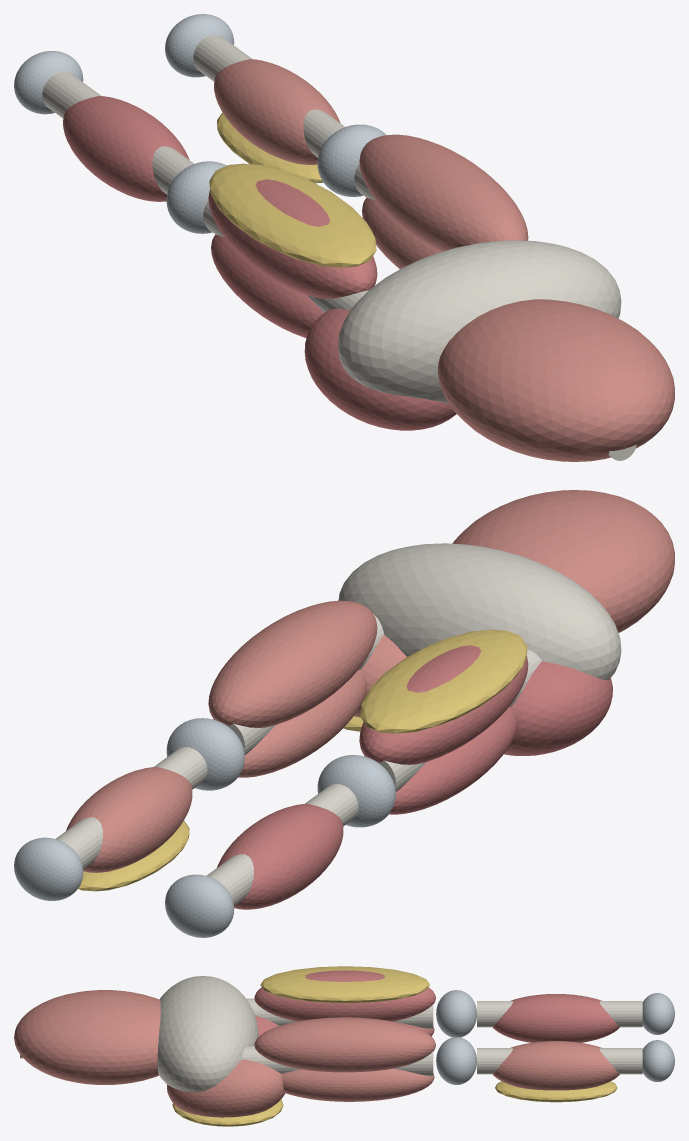
Rendered from muscle_mobility_educational.glb.
3 views of the same model, one above another, from view 1: azimuth 30°, elevation 25°; view 2: azimuth 150°, elevation 25°; view 3: azimuth 270°, elevation 25° (orthographic). The views are drawn at different scales.
Visible parts, largest first — view 1: Otot Inti, Panggul, Quadriceps Kiri, Area Sarkopenia Quadriceps, Otot Betis Kanan, Otot Betis Kiri, Quadriceps Kanan, Gluteus Kanan, Hamstring Kanan, Sendi Lutut Kiri, Tibia Kiri, Tibia Kanan (+6 smaller); view 2: Panggul, Otot Inti, Quadriceps Kiri, Area Sarkopenia Quadriceps, Otot Betis Kanan, Otot Betis Kiri, Gluteus Kanan, Quadriceps Kanan, Hamstring Kanan, Hamstring Kiri, Pergelangan Kaki Kanan, Pergelangan Kaki Kiri (+8 smaller); view 3: Otot Inti, Panggul, Quadriceps Kiri, Otot Betis Kiri, Otot Betis Kanan, Area Sarkopenia Quadriceps, Quadriceps Kanan, Gluteus Kiri, Hamstring Kiri, Tibia Kiri, Tibia Kanan, Sendi Lutut Kanan (+7 smaller).
Part boxes in pixels (x1,y1,x2,y2): Otot Inti: [438, 299, 674, 461]; Panggul: [337, 240, 621, 403]; Quadriceps Kiri: [359, 134, 528, 251]; Area Sarkopenia Quadriceps: [209, 163, 376, 267]; Otot Betis Kanan: [63, 96, 189, 201]; Otot Betis Kiri: [214, 59, 340, 164]; Quadriceps Kanan: [208, 179, 377, 298]; Gluteus Kanan: [304, 308, 456, 430]; Hamstring Kanan: [211, 234, 323, 338]; Sendi Lutut Kiri: [317, 124, 386, 196]; Tibia Kiri: [193, 35, 344, 157]; Tibia Kanan: [42, 71, 193, 194]; Panggul: [338, 543, 621, 679]; Otot Inti: [452, 490, 674, 632]; Quadriceps Kiri: [208, 600, 377, 727]; Area Sarkopenia Quadriceps: [360, 629, 527, 733]; Otot Betis Kanan: [217, 803, 343, 909]; Otot Betis Kiri: [66, 767, 192, 872]; Gluteus Kanan: [504, 661, 612, 755]; Quadriceps Kanan: [359, 645, 528, 764]; Hamstring Kanan: [389, 706, 518, 814]; Hamstring Kiri: [238, 669, 367, 777]; Pergelangan Kaki Kanan: [165, 874, 234, 937]; Pergelangan Kaki Kiri: [14, 837, 83, 900]; Otot Inti: [14, 990, 160, 1084]; Panggul: [157, 976, 258, 1092]; Quadriceps Kiri: [254, 1017, 435, 1072]; Otot Betis Kiri: [492, 1041, 619, 1090]; Otot Betis Kanan: [492, 994, 619, 1042]; Area Sarkopenia Quadriceps: [260, 966, 429, 1003]; Quadriceps Kanan: [254, 970, 435, 1021]; Gluteus Kiri: [167, 1059, 284, 1117]; Hamstring Kiri: [281, 1068, 434, 1101]; Tibia Kiri: [477, 1048, 642, 1074]; Tibia Kanan: [477, 1001, 642, 1027]; Sendi Lutut Kanan: [436, 990, 476, 1037].
Bounding box in the file's own units: 1.4 × 0.7633 × 4.51.
